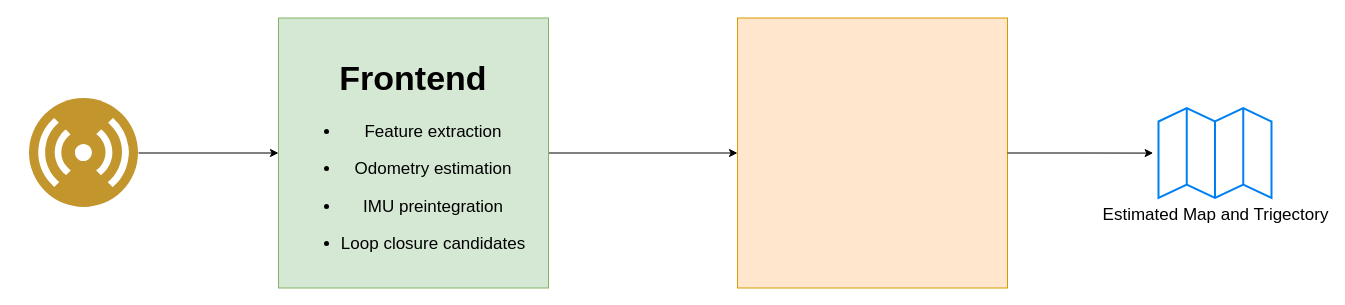
Image size: 1345x305. Some labels were removed from this diagram. The shapes that lost their labels are listed below. From the top down, each one's centre as x and y in pixels, then its label:
At (83,152): "Raw Sensor Data".
At (872,152): "Backend Factor graph construction Optimization Global map updates".
